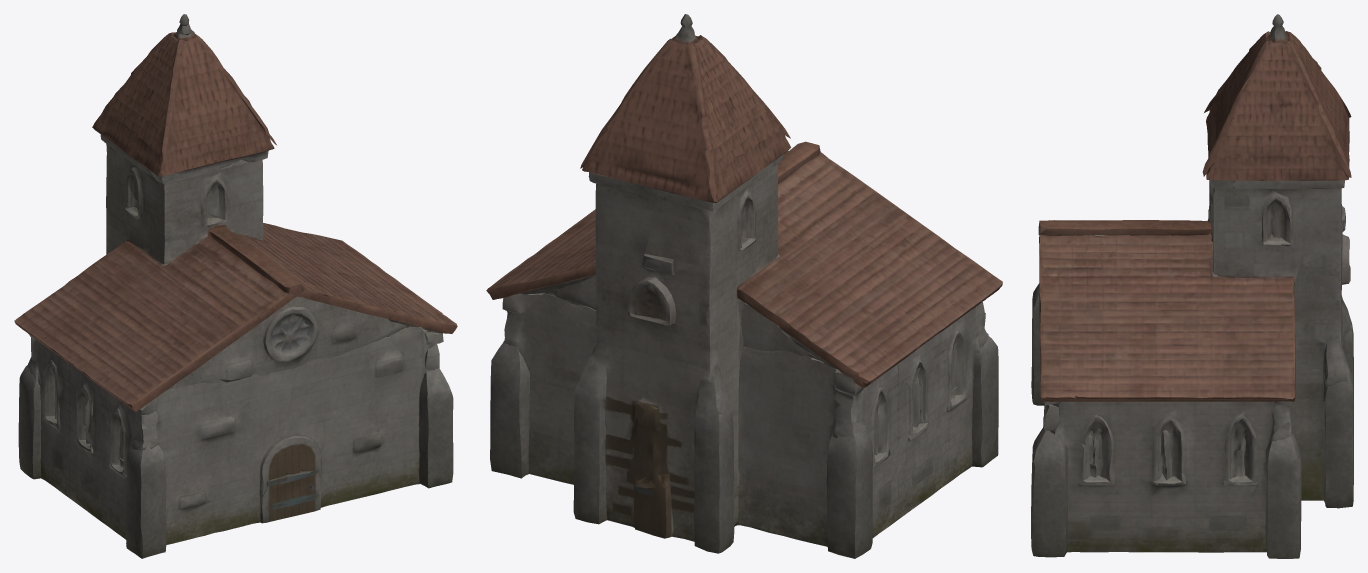
Rendered from 建筑-教堂-church.glb.
3 renders of one model, left to right at view 1: azimuth 30°, elevation 25°; view 2: azimuth 150°, elevation 25°; view 3: azimuth 270°, elevation 25°, orthographic. The views are drawn at different scales.
Visible parts, largest first — view 1: NaveWalls, RoofLeft, Steeple, Tower, RoofRight, NaveGable, Buttress0, Buttress1, DoorFrame, Buttress2, RidgeBeam; view 2: NaveWalls, Tower, RoofLeft, Steeple, TowerButtress0, Buttress2, Buttress3, RoofRight, TowerButtress1, Buttress0, NaveGable, TowerBand (+1 smaller); view 3: RoofRight, NaveWalls, Tower, Steeple, Buttress1, Buttress3, TowerButtress1, RidgeBeam, Buttress0, TowerBand, TowerButtress0.
Boxes of the visible parts, x1,y1,x2,y2 form: NaveWalls: (27,326,433,544); RoofLeft: (14,236,296,411); Steeple: (92,14,276,183); Tower: (106,144,263,264); RoofRight: (235,223,457,333); NaveGable: (172,296,410,388); Buttress0: (126,445,166,558); Buttress1: (418,368,453,488); DoorFrame: (260,470,320,523); Buttress2: (18,365,41,479); RidgeBeam: (209,227,304,295); NaveWalls: (502,293,988,546); Tower: (578,164,778,541); RoofLeft: (737,152,1002,388); Steeple: (580,14,790,202); TowerButtress0: (694,411,734,553); Buttress2: (826,432,872,558); Buttress3: (490,343,529,478); RoofRight: (486,151,788,299); TowerButtress1: (573,382,607,524); Buttress0: (972,336,998,467); NaveGable: (545,276,819,360); TowerBand: (588,161,774,211); RoofRight: (1039,233,1295,401); NaveWalls: (1044,401,1292,552); Tower: (1208,180,1352,500); Steeple: (1202,14,1351,188); Buttress1: (1031,426,1067,557); Buttress3: (1265,431,1301,558); TowerButtress1: (1323,379,1353,508); RidgeBeam: (1039,220,1212,235); Buttress0: (1031,283,1044,405); TowerBand: (1232,180,1344,188); TowerButtress0: (1343,316,1353,398).
Size of the model in its own units: 1.63 by 2 by 1.27.
1 material, 1 textured.
